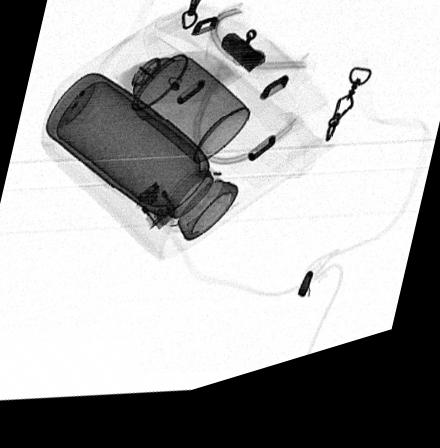Sprayer: (107, 43, 247, 174)
